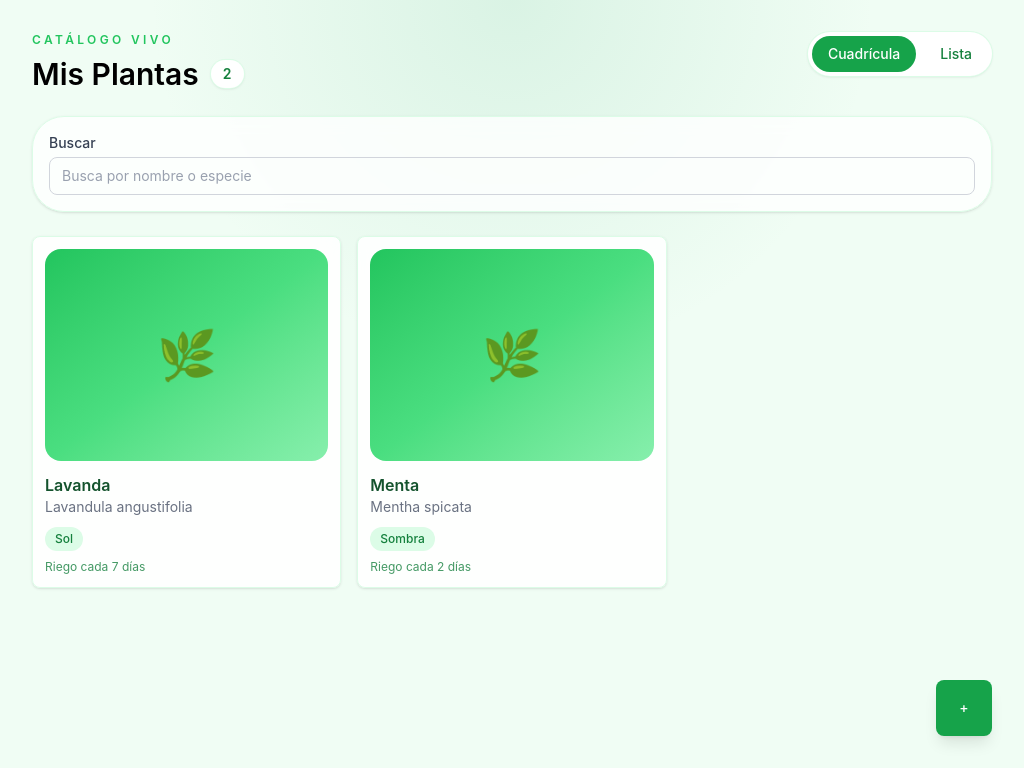
Test case: Plants page › filters plants by search
This screenshot has width=1024, height=768.
Type "mentha" into the field labelled "Buscar" at (512, 176), box [49, 157, 975, 195]
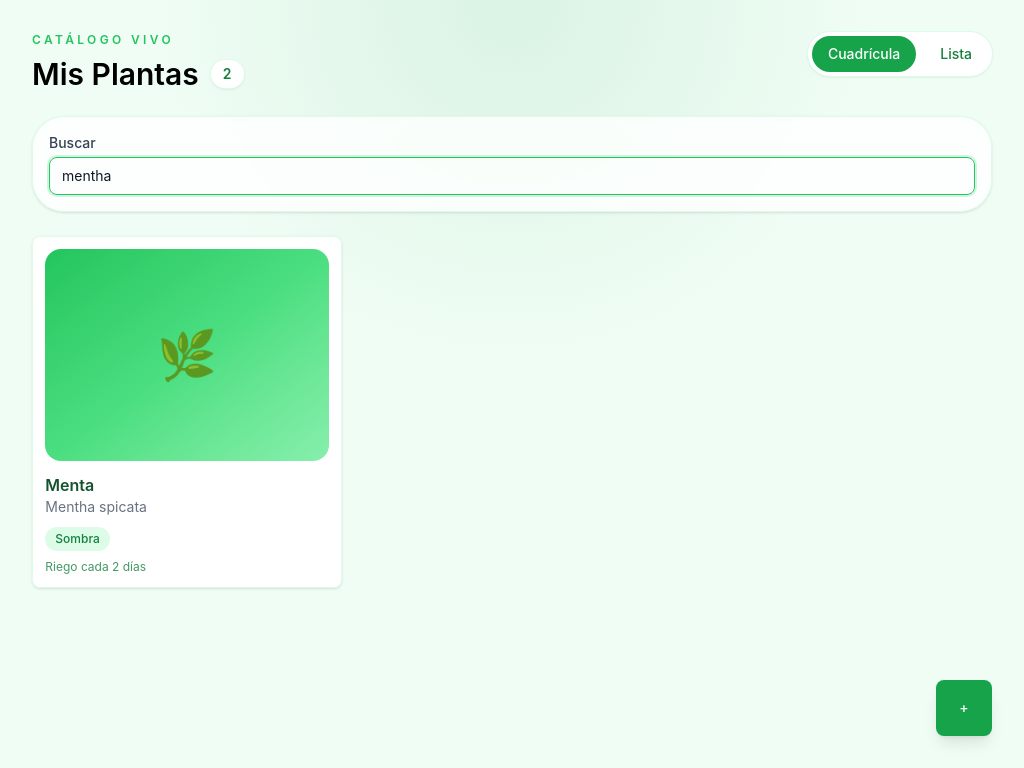
expect the heading "Menta" is shown: met, box [45, 476, 94, 496]
expect the button "Lavanda" is gone: met
